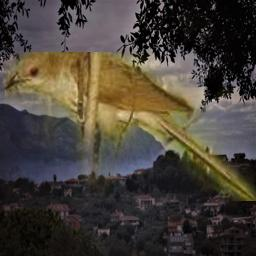Cuckoo: (5, 52, 256, 201)
